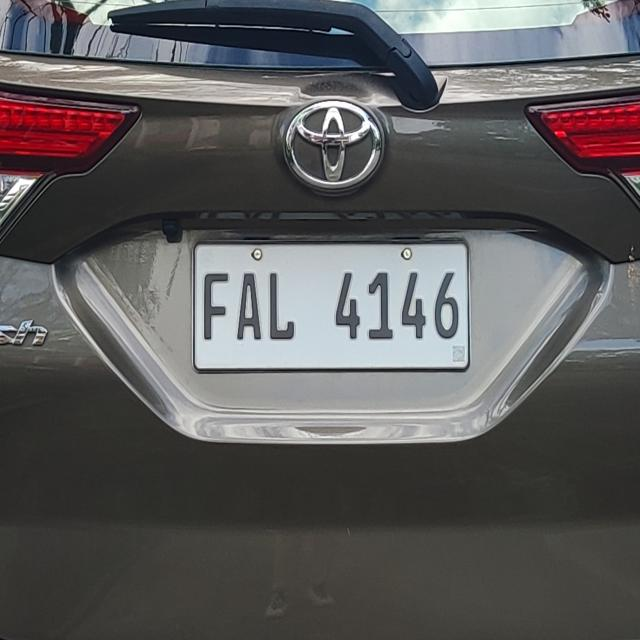plate: (190, 236, 472, 376)
